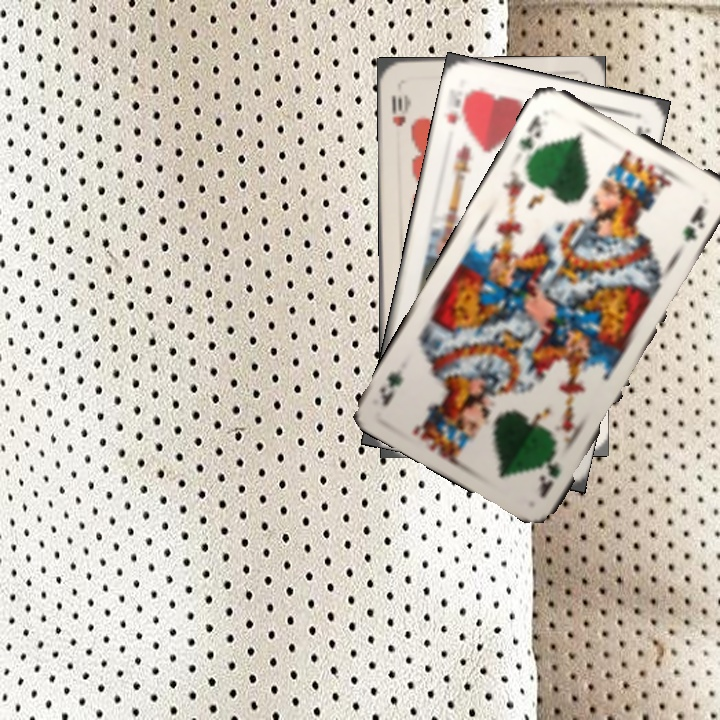GK: (535, 446, 563, 501), (515, 111, 545, 154)
H10: (387, 90, 411, 129)
HK: (442, 85, 474, 128)
